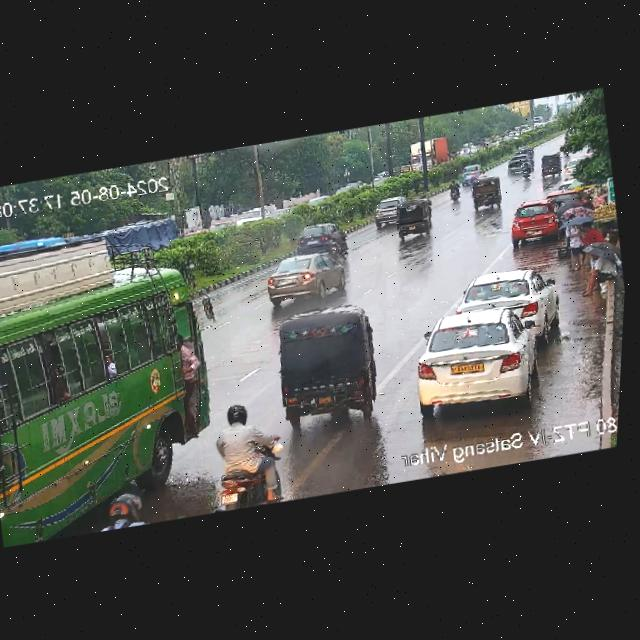bus: (0, 214, 230, 545)
car: (402, 299, 555, 416), (264, 304, 390, 431), (454, 264, 560, 341), (254, 248, 346, 308), (507, 202, 563, 243), (293, 219, 348, 250), (388, 204, 434, 240), (369, 195, 412, 227), (467, 178, 502, 209), (534, 152, 564, 178), (543, 187, 574, 204), (236, 209, 265, 227), (460, 163, 481, 183), (506, 155, 523, 176), (516, 143, 535, 158)
motorcycle: (215, 436, 294, 511), (208, 403, 282, 482), (100, 484, 152, 531), (446, 182, 465, 202), (518, 161, 533, 180), (469, 170, 488, 182)
person: (574, 247, 622, 295), (564, 218, 600, 269)
truck: (397, 429, 547, 482), (404, 135, 451, 173)
